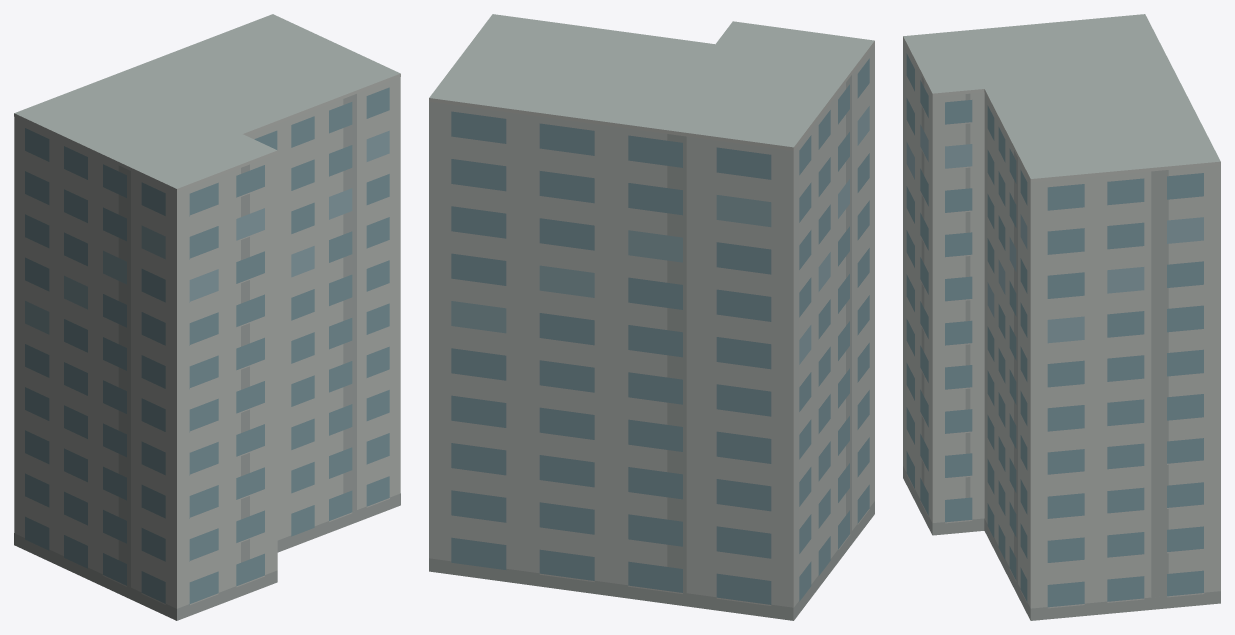
The model's file is residential-ebb586b3-7e68-4fa8-9927-f694ce57918a.glb.
3 views of the same model, side by side, from view 1: azimuth 30°, elevation 25°; view 2: azimuth 150°, elevation 25°; view 3: azimuth 270°, elevation 25° (orthographic). The views are drawn at different scales.
Parts seen in each view (by area): view 1: residential-ebb586b3-7e68-4fa8-9927-f694ce57918a.tmp; view 2: residential-ebb586b3-7e68-4fa8-9927-f694ce57918a.tmp; view 3: residential-ebb586b3-7e68-4fa8-9927-f694ce57918a.tmp.
Boxes of the visible parts, left/top/right/bottom form: residential-ebb586b3-7e68-4fa8-9927-f694ce57918a.tmp: left=14, top=14, right=400, bottom=620; residential-ebb586b3-7e68-4fa8-9927-f694ce57918a.tmp: left=429, top=14, right=874, bottom=620; residential-ebb586b3-7e68-4fa8-9927-f694ce57918a.tmp: left=903, top=14, right=1220, bottom=620.
Bounding box in the file's own units: 24.85 × 31 × 20.22.
